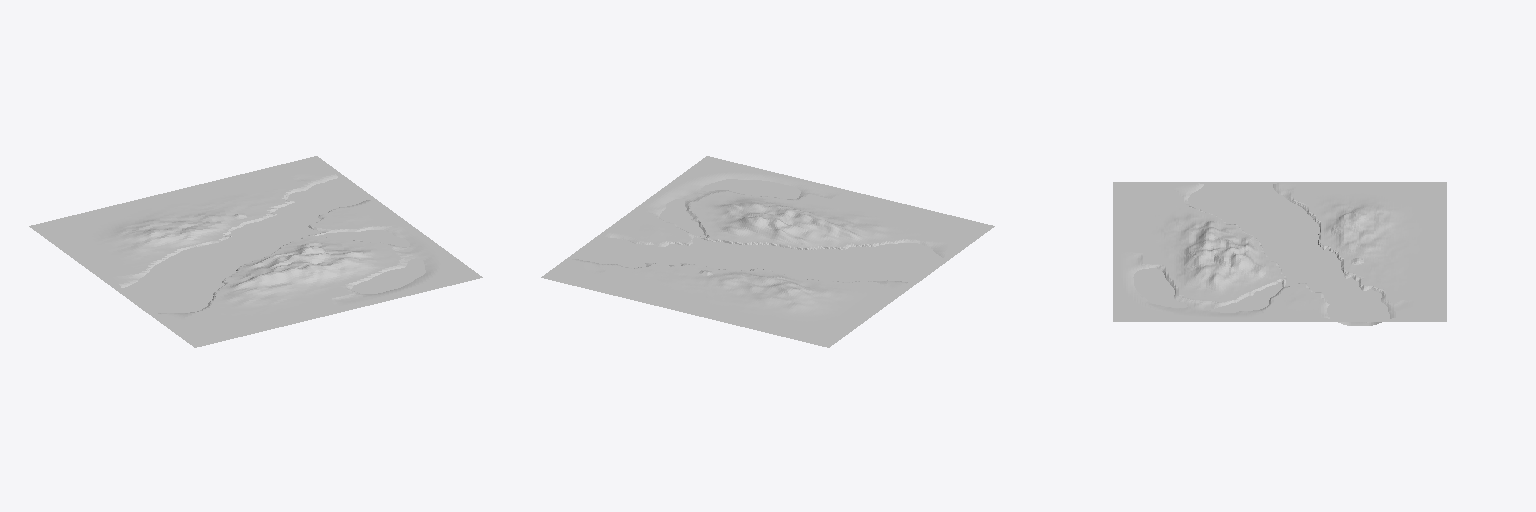
File: Environment.obj
3 renders of one model, left to right at view 1: azimuth 30°, elevation 25°; view 2: azimuth 150°, elevation 25°; view 3: azimuth 270°, elevation 25°, orthographic.
Parts seen in each view (by area): view 1: Landscape.002, Landscape_plane.001; view 2: Landscape.002, Landscape_plane.001; view 3: Landscape.002, Landscape_plane.001.
Boxes of the visible parts, <box> form: Landscape.002: <box>40,159,471,341</box>; Landscape_plane.001: <box>29,156,482,347</box>; Landscape.002: <box>552,159,983,341</box>; Landscape_plane.001: <box>541,156,994,347</box>; Landscape.002: <box>1121,183,1438,325</box>; Landscape_plane.001: <box>1113,182,1446,321</box>.
Size of the model in its own units: 28.98 by 3.09 by 28.98.